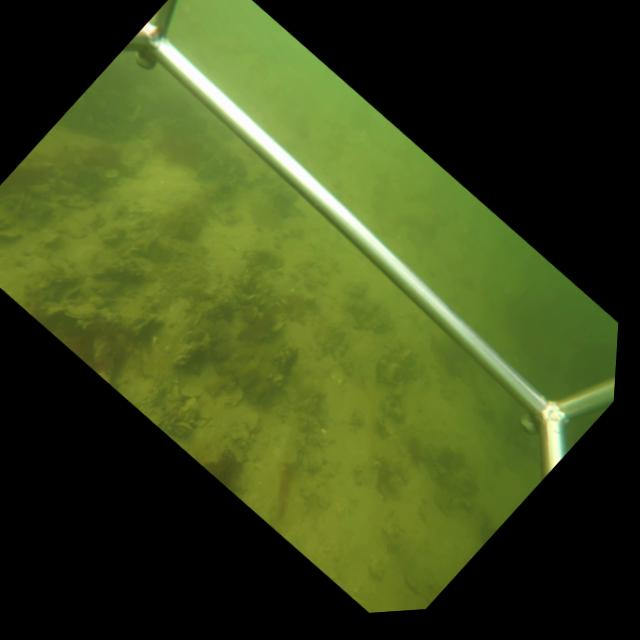Oyster-Closed: (60, 302, 101, 321)
